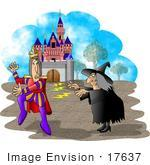person: (6, 56, 56, 136), (67, 68, 123, 135)
